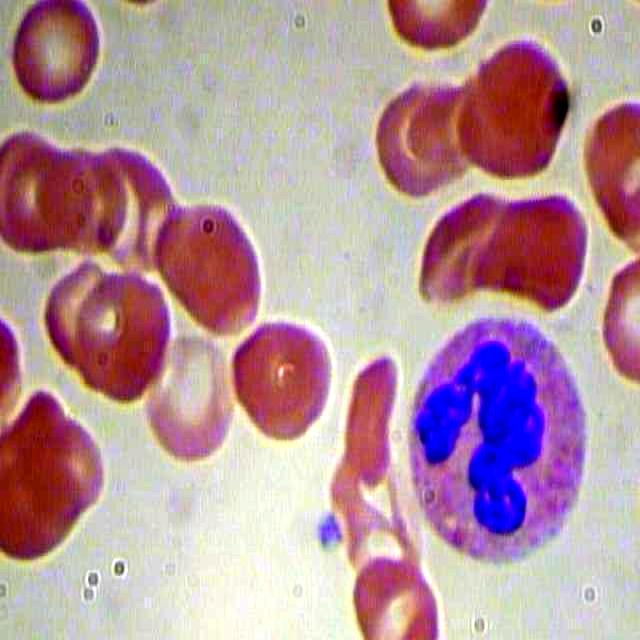Platelets: (306, 511, 347, 561)
RBC: (150, 192, 266, 340), (152, 195, 268, 342), (70, 263, 179, 400), (229, 317, 342, 440), (494, 183, 596, 316), (469, 37, 573, 162), (144, 333, 234, 464), (415, 187, 516, 301), (368, 78, 460, 194), (7, 1, 103, 110), (27, 406, 111, 526), (45, 140, 129, 260), (32, 254, 116, 374), (339, 350, 405, 490), (344, 549, 445, 639)
WBC: (398, 304, 590, 575)
